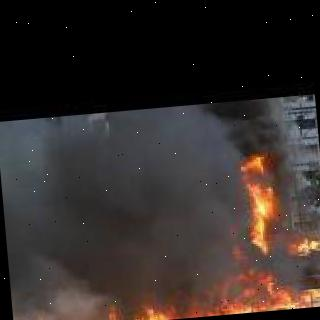fire: (0, 101, 258, 311), (14, 283, 320, 320), (240, 148, 280, 250)
